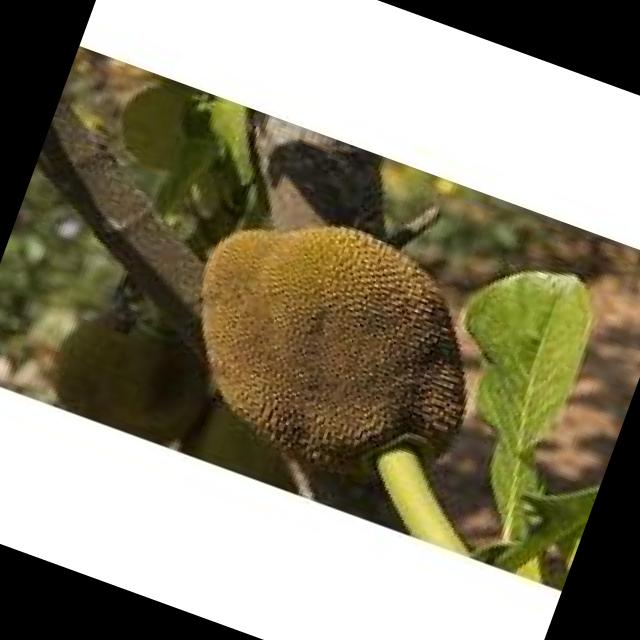Fruit: (137, 168, 529, 535)
